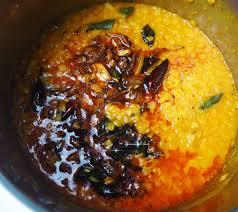Dhal Curry: (17, 6, 234, 208)
